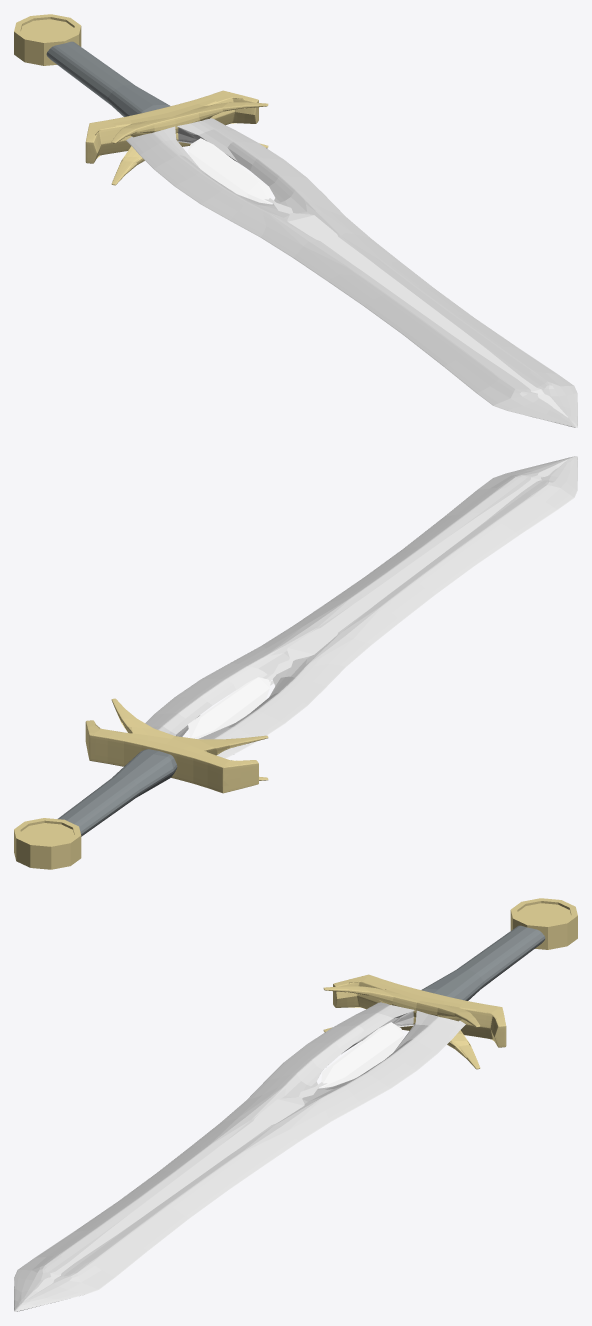
Rendered from Sword_subdivided.glb.
The picture shows the model from 3 angles, top to bottom: view 1: azimuth 30°, elevation 25°; view 2: azimuth 150°, elevation 25°; view 3: azimuth 330°, elevation 25°; orthographic projection.
Visible parts, largest first — view 1: Blade.001, Guard.001, Fluid.001, Handle.001, Pommel.001, Crystal.001; view 2: Blade.001, Guard.001, Fluid.001, Handle.001, Pommel.001, Crystal.001; view 3: Blade.001, Guard.001, Fluid.001, Handle.001, Pommel.001, Crystal.001.
Part boxes in pixels (bbox=[...]): Blade.001: bbox=[126, 118, 577, 427]; Guard.001: bbox=[85, 90, 268, 185]; Fluid.001: bbox=[264, 198, 567, 417]; Handle.001: bbox=[46, 41, 170, 116]; Pommel.001: bbox=[14, 14, 81, 65]; Crystal.001: bbox=[188, 138, 270, 203]; Blade.001: bbox=[145, 456, 577, 758]; Guard.001: bbox=[85, 698, 268, 793]; Fluid.001: bbox=[266, 459, 567, 685]; Handle.001: bbox=[58, 749, 177, 836]; Pommel.001: bbox=[14, 818, 81, 869]; Crystal.001: bbox=[188, 677, 270, 738]; Blade.001: bbox=[14, 1002, 465, 1311]; Guard.001: bbox=[323, 974, 506, 1069]; Fluid.001: bbox=[24, 1082, 327, 1301]; Handle.001: bbox=[421, 925, 545, 1000]; Pommel.001: bbox=[510, 898, 577, 949]; Crystal.001: bbox=[321, 1022, 403, 1087].
Bounding box in the file's own units: 1.29 × 0.3086 × 7.06.
